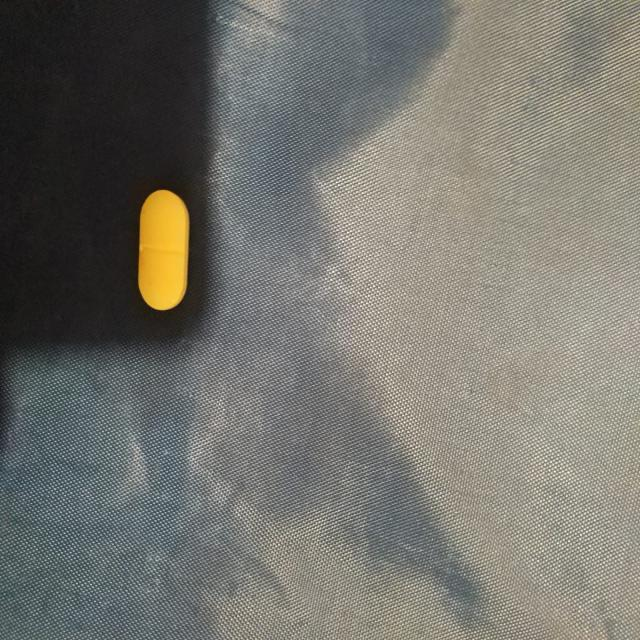pills: (127, 170, 199, 323)
